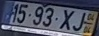1: (11, 3, 19, 23)
3: (41, 7, 54, 27)
5: (17, 3, 29, 24)
9: (32, 5, 44, 26)
J: (71, 12, 86, 31)
X: (58, 8, 75, 31)
